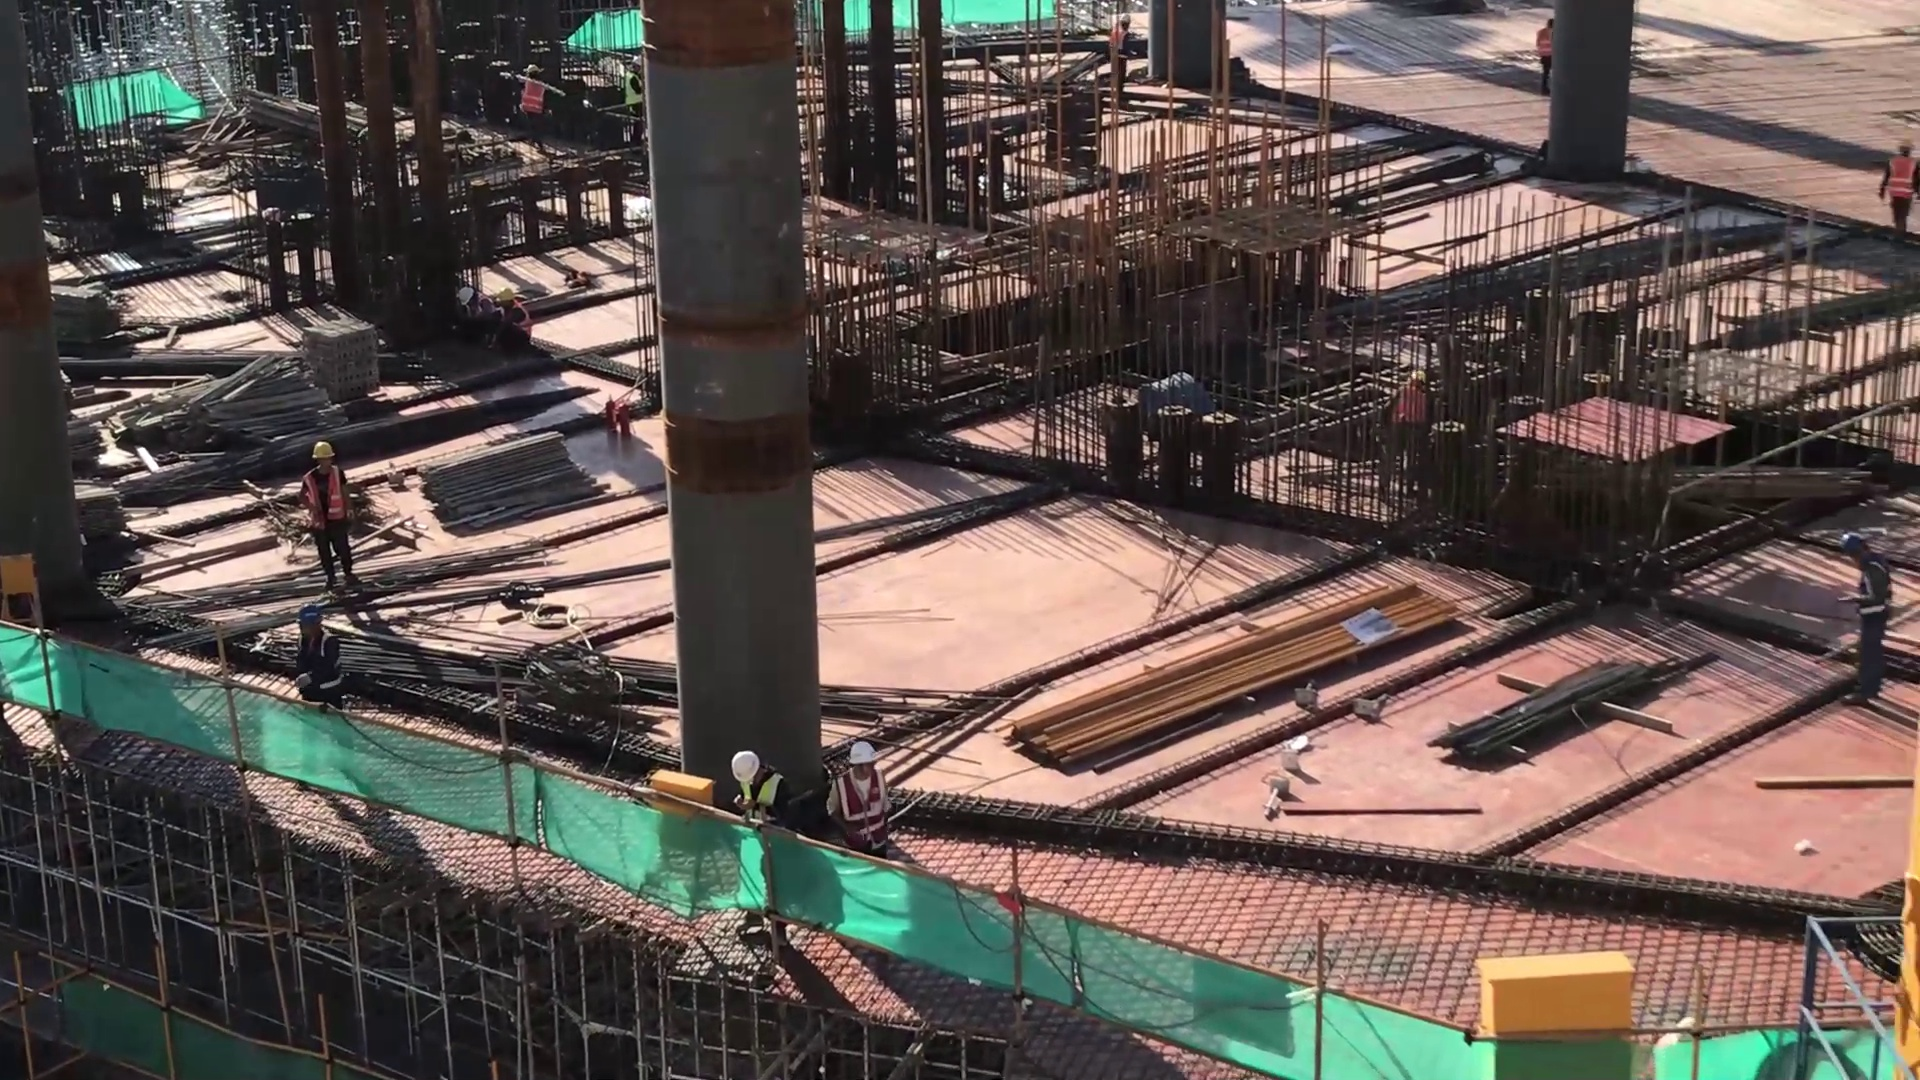helmet: (309, 433, 352, 470), (733, 746, 758, 781), (852, 737, 873, 760)
person: (1827, 511, 1902, 718), (727, 739, 801, 924), (1859, 123, 1920, 252), (516, 62, 567, 130), (1096, 7, 1136, 74), (1532, 18, 1563, 81)
vest: (828, 762, 896, 870), (297, 457, 340, 531), (1878, 150, 1915, 206), (516, 72, 551, 126), (1859, 561, 1889, 615), (1104, 27, 1128, 61)
